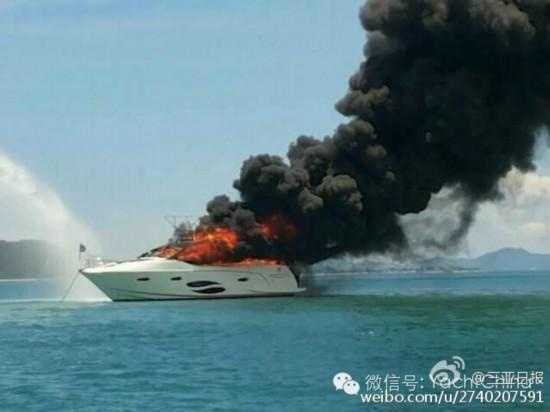fire: (159, 222, 281, 265)
